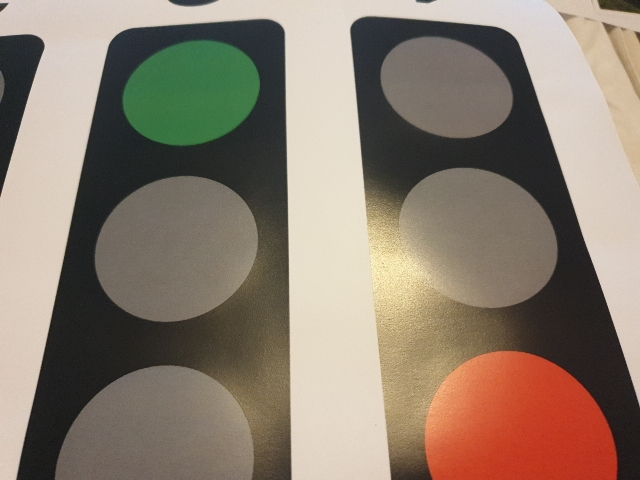green: (122, 34, 264, 467)
red: (362, 23, 579, 467)
